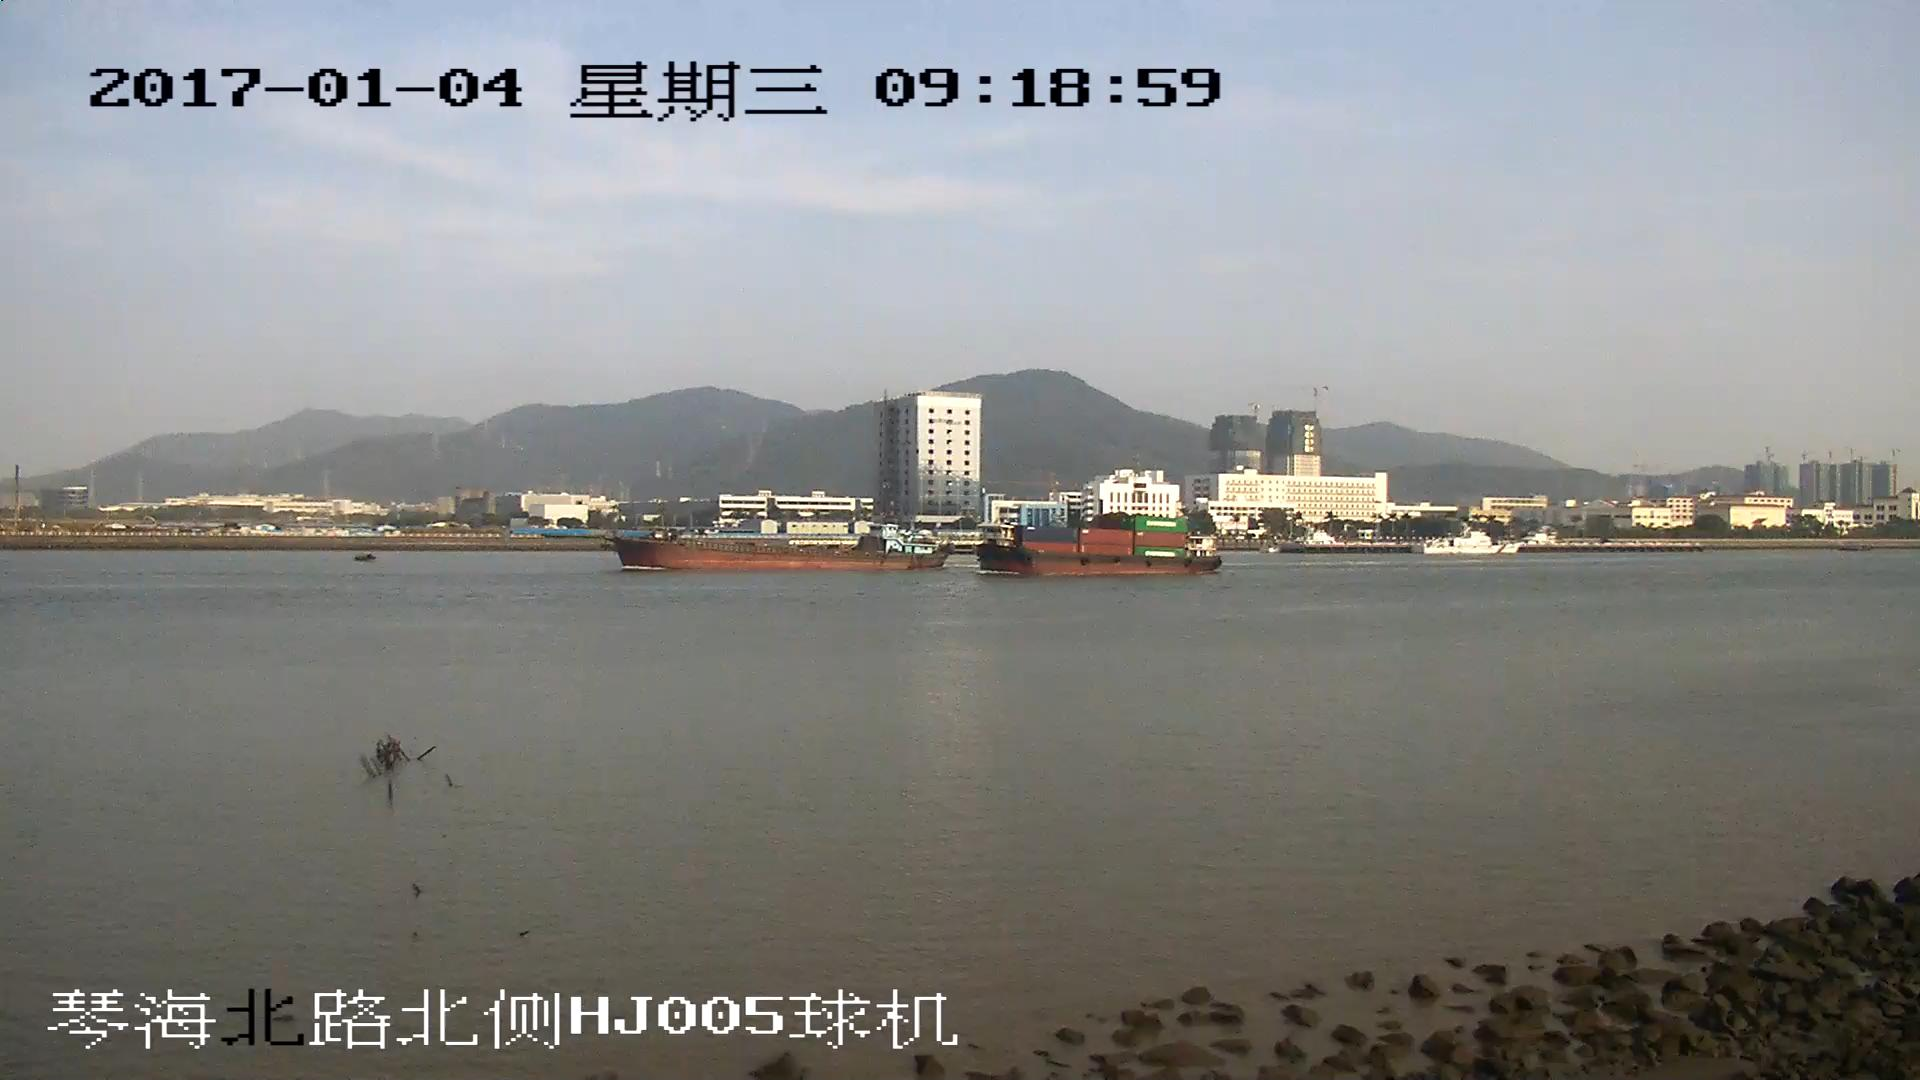bulk cargo carrier: (614, 521, 944, 572)
container ship: (975, 512, 1221, 575)
